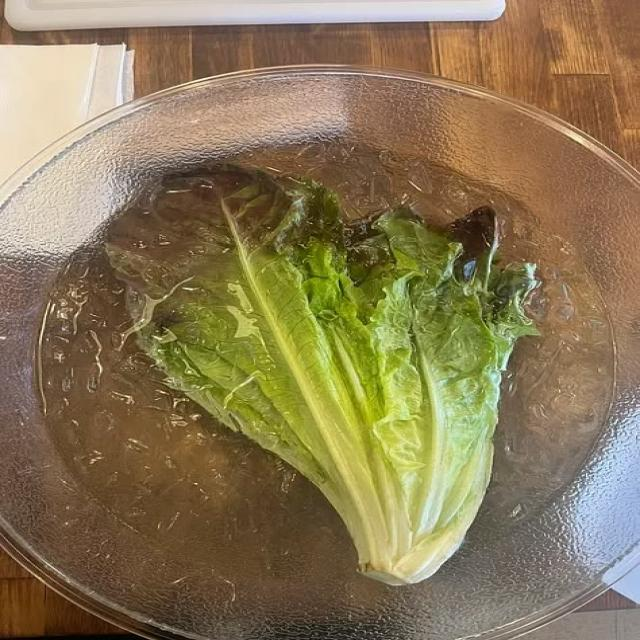lettuce: (109, 168, 536, 584)
